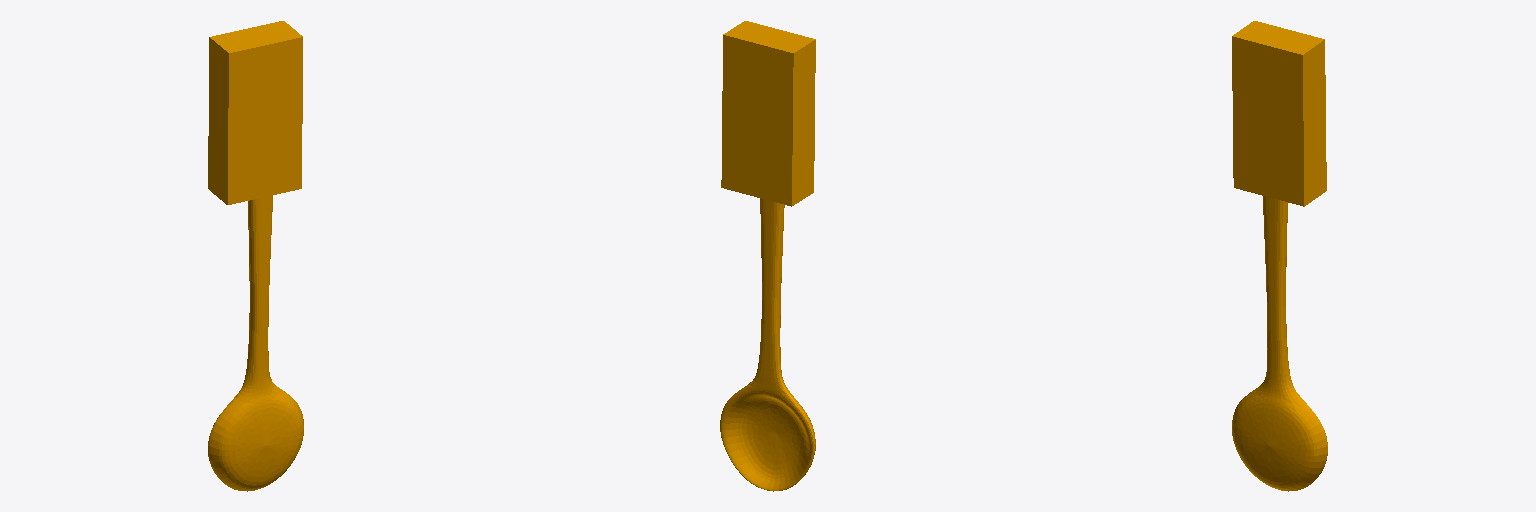
The robot description file, URDF, robot "spoon":
<?xml version="1.0" ?>
<robot name="spoon">
  <link name="spoon">
    <visual>
      <origin xyz="0 0 0"/>
      <geometry>
        <mesh filename="spoon.dae"/>
      </geometry>
    </visual>
    <collision>
      <origin xyz="0 0 0"/>
      <geometry>
        <mesh filename="spoon.dae"/>
      </geometry>
    </collision>
    <inertial>
      <mass value="0.5"/> 
      <inertia ixx="0.0001" ixy="0.0" ixz="0.0" iyy="0.0001" iyz="0.0" izz="0.0001"/>
    </inertial>
  </link>
</robot>

--- What the picture shows (computed from the rendered views, not written in the file) ---
The picture shows the robot from 3 angles, left to right: view 1: azimuth 30°, elevation 25°; view 2: azimuth 150°, elevation 25°; view 3: azimuth 330°, elevation 25°; orthographic projection.
Robot: spoon — 1 links, 0 joints (none); root link spoon; default pose: all joints at 0.
Visible links, largest first — view 1: spoon; view 2: spoon; view 3: spoon.
Link boxes in pixels (x1,y1,x2,y2): spoon: (208, 21, 303, 491); spoon: (720, 21, 815, 491); spoon: (1232, 21, 1327, 491).
Bounding box of the posed robot: 0.0414 × 0.0183 × 0.1892 m (x, y, z).
1 mesh visuals loaded from 1 distinct referenced files (1 Collada DAE).